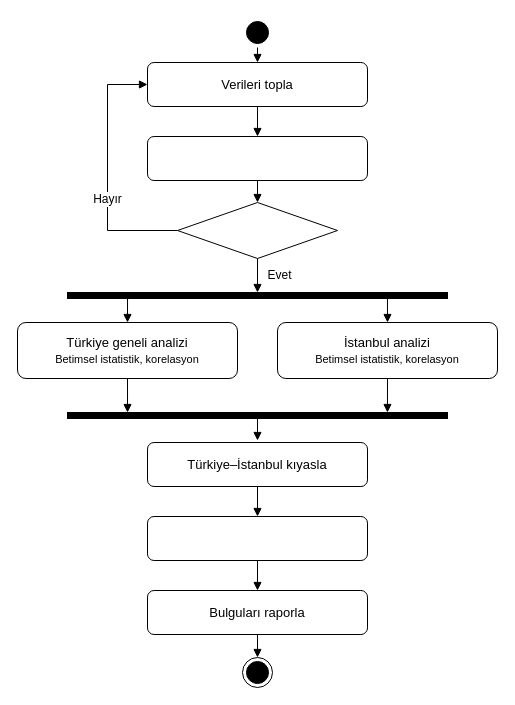
Some shapes in this 515 by 705 pixel diagram are drawn without their labels. The shapes that lost their labels are listed below. From the top down, each one's box as (x1, y1, x2, y2) in pixels, then its label:
(146, 136, 368, 180): Veriyi temizle, birleştir
(176, 202, 338, 258): Veri yeterli mi?
(146, 516, 368, 560): Görselleştirme üret
